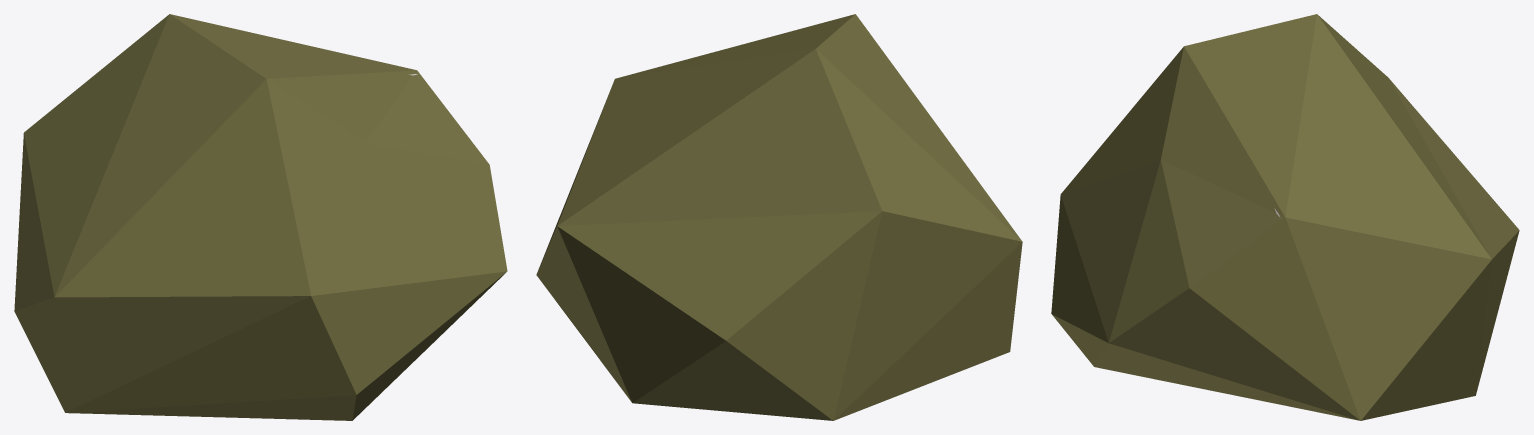
Rendered from SM_Env_Bush_03.fbx.
3 renders of one model, left to right at view 1: azimuth 30°, elevation 25°; view 2: azimuth 150°, elevation 25°; view 3: azimuth 270°, elevation 25°, orthographic. The views are drawn at different scales.
Visible parts, largest first — view 1: SM_Env_Bush_03; view 2: SM_Env_Bush_03; view 3: SM_Env_Bush_03.
Part boxes in pixels (box(x1,y1,x2,y2)): SM_Env_Bush_03: box(14, 14, 507, 420); SM_Env_Bush_03: box(536, 14, 1022, 420); SM_Env_Bush_03: box(1051, 14, 1519, 420).
Size of the model in its own units: 131 by 125 by 97.24.
2 materials, 1 textured.
